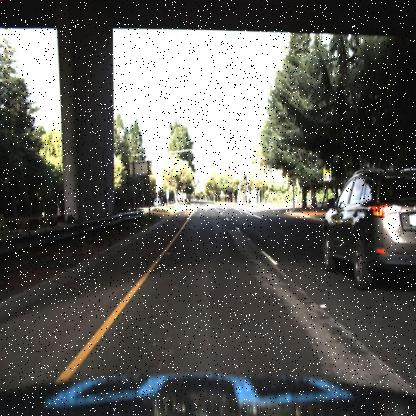car: (322, 166, 416, 293), (152, 195, 162, 209)
trafficLight-Green: (242, 171, 248, 188)
